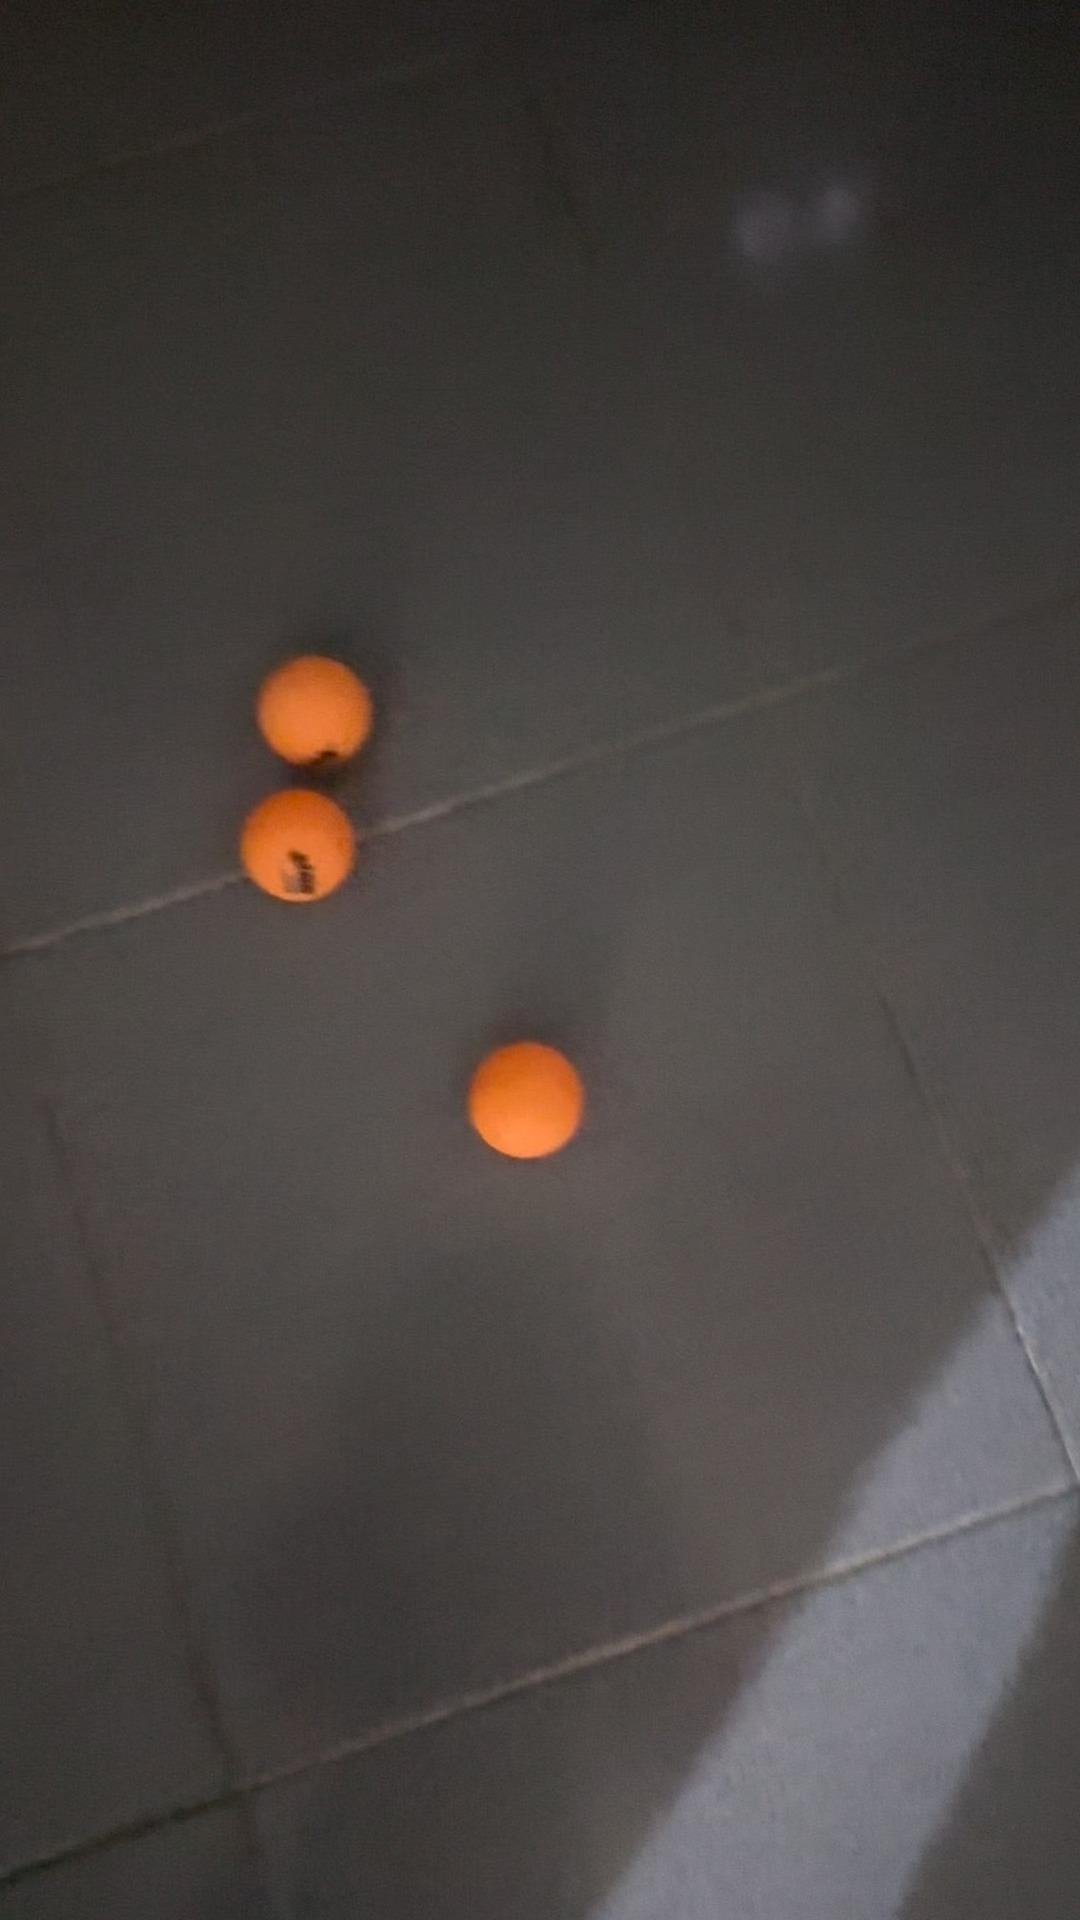oball: (241, 785, 368, 911), (255, 638, 375, 766), (468, 1047, 579, 1166)
